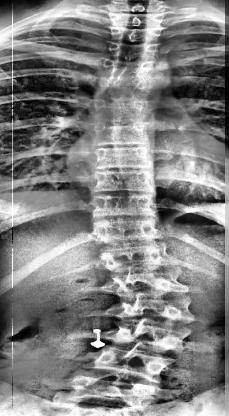Vertebrae: (76, 347, 180, 385), (106, 266, 188, 298), (110, 296, 196, 326), (110, 320, 190, 348), (85, 142, 157, 170), (100, 241, 167, 271), (87, 193, 161, 219), (90, 97, 158, 125), (88, 121, 154, 149), (86, 78, 170, 100), (87, 167, 155, 193), (89, 218, 161, 242), (90, 58, 161, 82), (99, 39, 163, 61), (107, 23, 165, 43), (107, 7, 165, 27)
